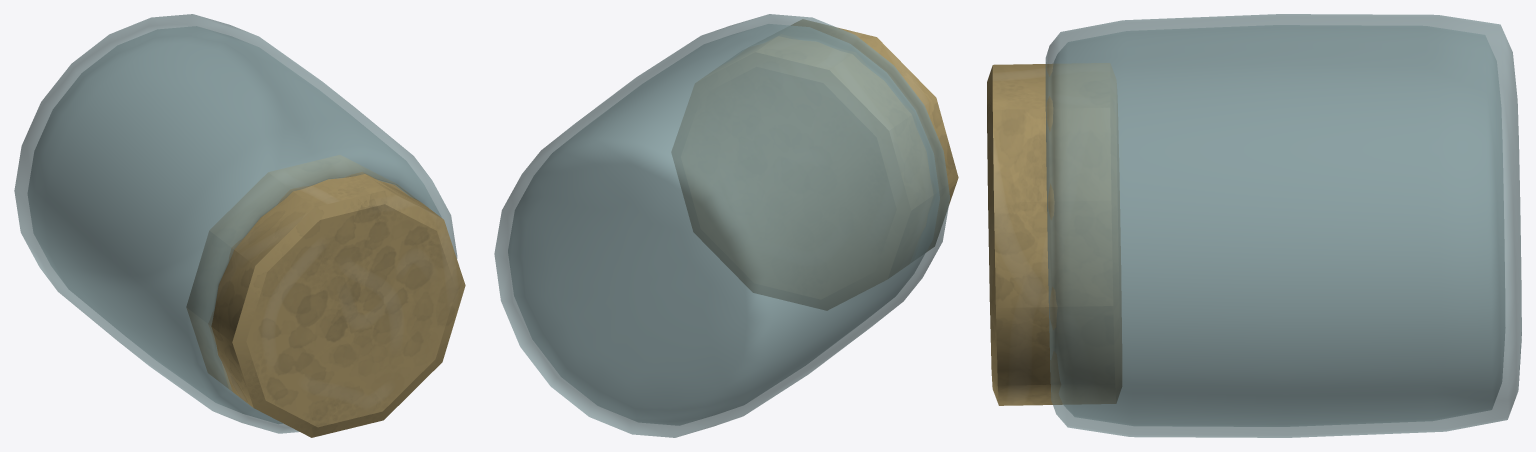
The model's file is JAR.fbx.
The picture shows the model from 3 angles, left to right: view 1: azimuth 30°, elevation 25°; view 2: azimuth 150°, elevation 25°; view 3: azimuth 270°, elevation 25°; orthographic projection. The views are drawn at different scales.
Parts seen in each view (by area): view 1: glass2, lid; view 2: glass2, lid; view 3: glass2, lid.
Boxes of the visible parts, x1,y1,x2,y2 form: glass2: (14,14,457,433); lid: (186,155,465,437); glass2: (494,14,950,437); lid: (671,19,958,310); glass2: (1045,14,1521,437); lid: (987,63,1121,405).
Bounding box in the file's own units: 6.92 × 6.91 × 8.66.
